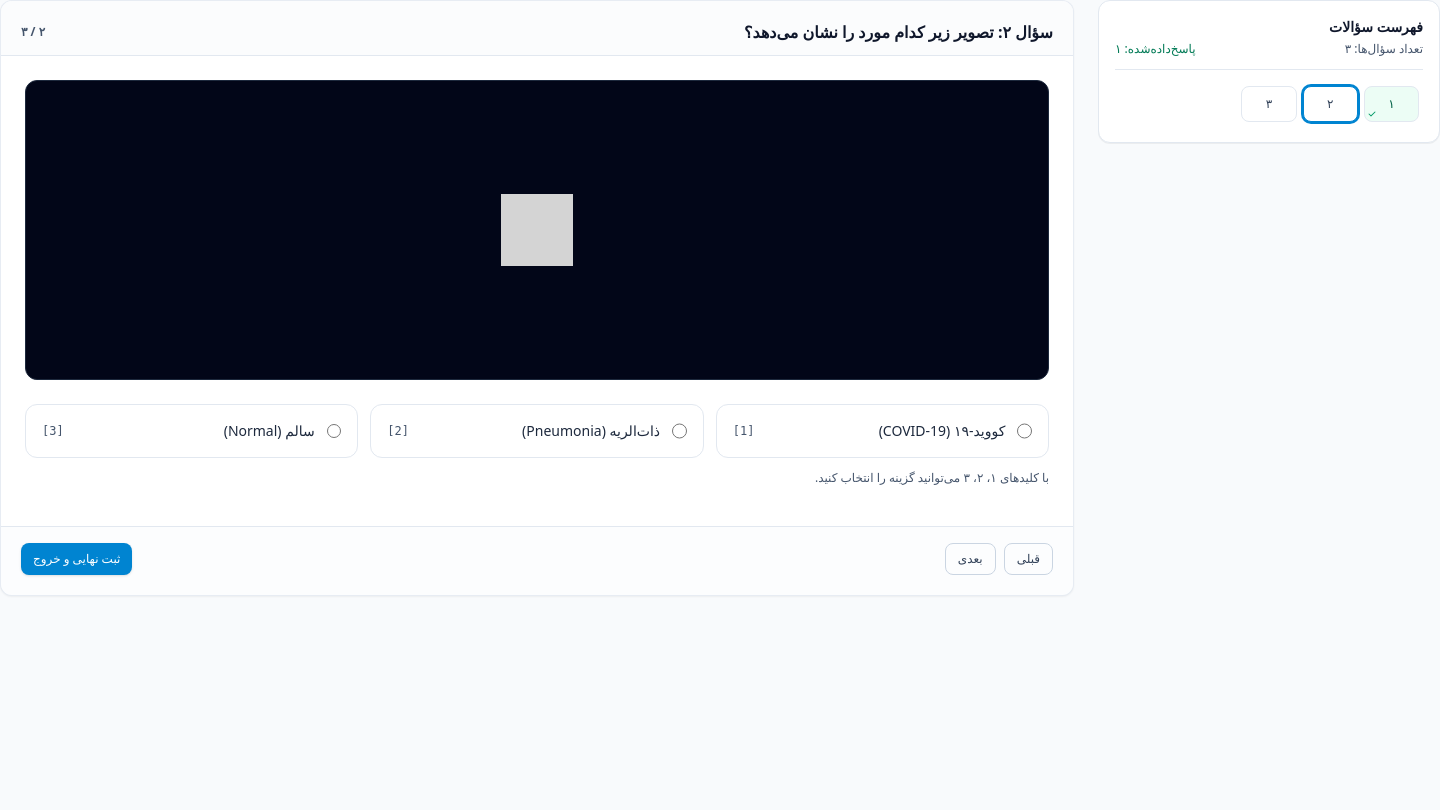
Test: QuizPage › restores previous choice and displays error if PUT fails
Expected: the heading "سؤال ۲: تصویر زیر کدام مورد را نشان می‌دهد؟" is shown, x1=744 y1=21 x2=1053 y2=43
Click the radio button labelled "کووید-۱۹ (COVID-19) [1]" at x=1025, y=431, box x1=1017 y1=423 x2=1032 y2=439
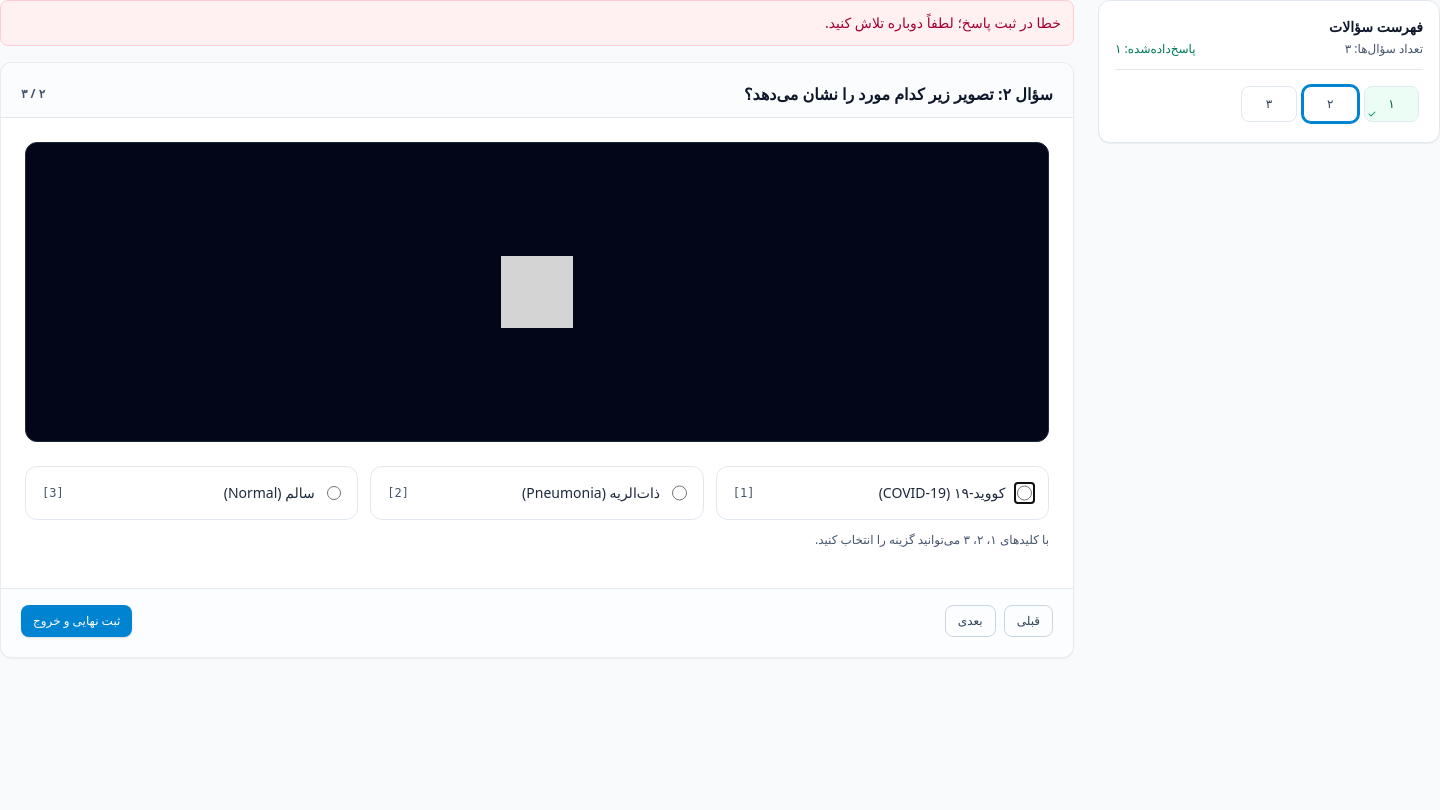
Now the text "خطا در ثبت پاسخ؛ لطفاً دوباره تلاش کنید." is shown, box x1=825 y1=13 x2=1061 y2=32
